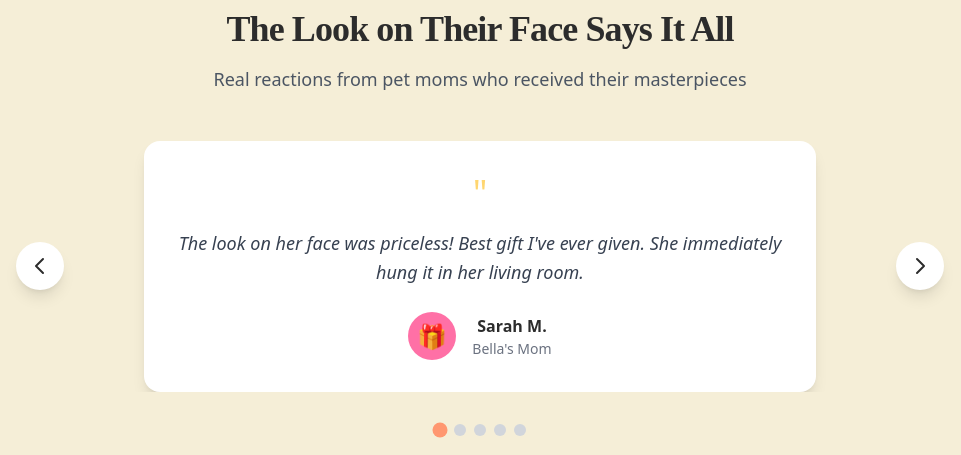
Scenario: ReactionsSection › navigates to next testimonial when next button is clicked
Click the button named "Next testimonial" at (920, 266), box [896,242,944,290]
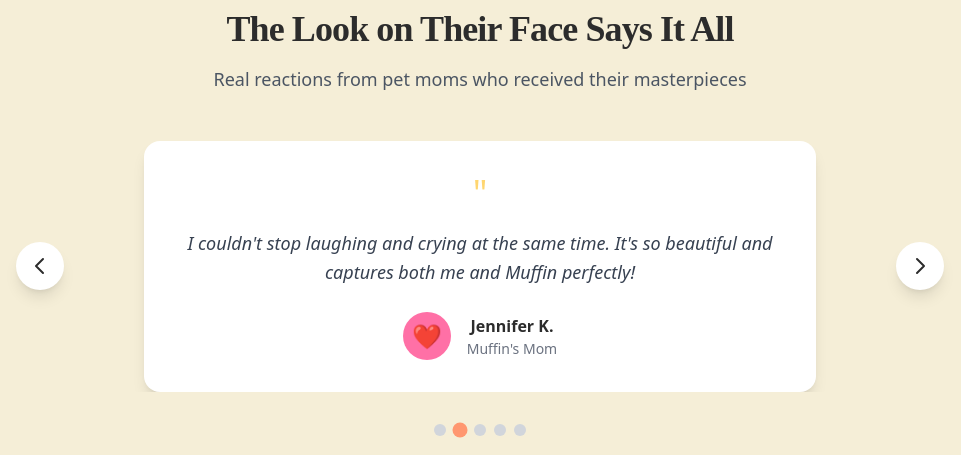
expect the text "I couldn't stop laughing and crying" is shown: met, box [188,231,773,284]
expect the text "Jennifer K." is shown: met, box [467,312,557,338]
